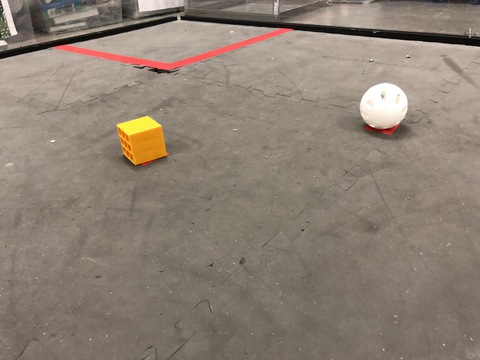ball: (354, 78, 422, 145)
block: (107, 114, 179, 169)
